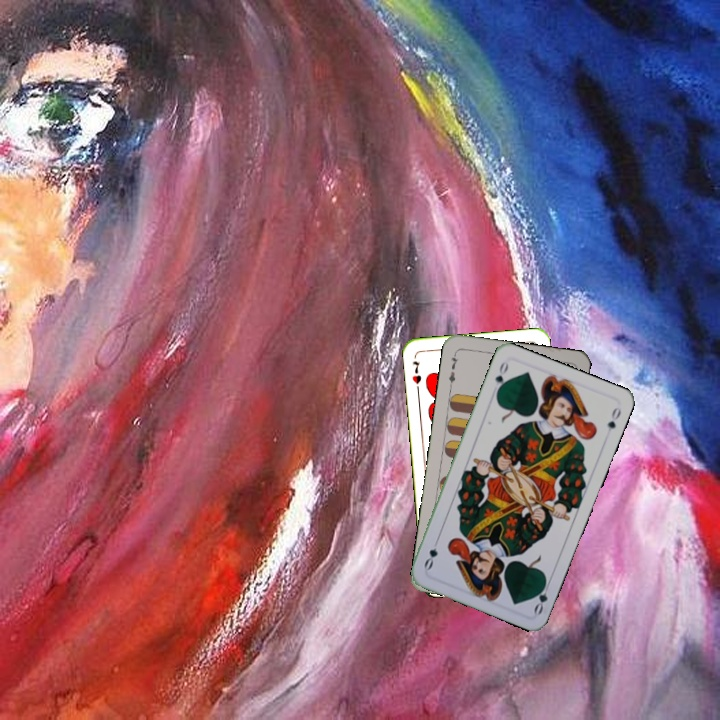E7: (445, 349, 461, 389)
GO: (530, 576, 553, 617), (491, 357, 511, 397)
H7: (408, 357, 424, 386)
